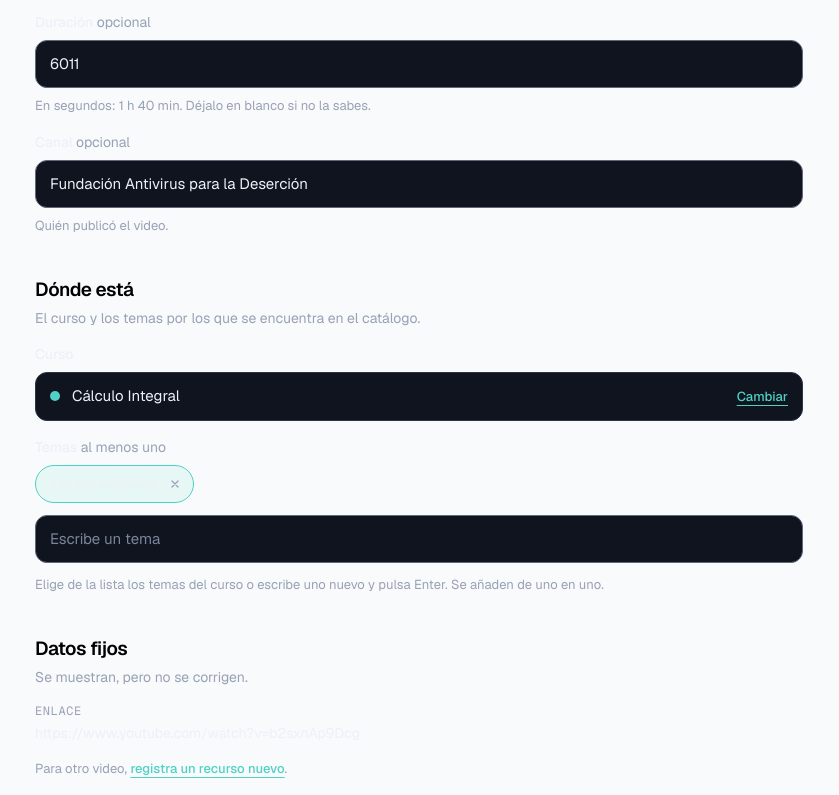
Test: EditResourcePage › cambiar de curso vacía los temas, como al registrar
The width and height of the screenshot is (839, 795).
(page scrolled)
Click the button "Cambiar": [762, 396] box x1=737 y1=387 x2=788 y2=406
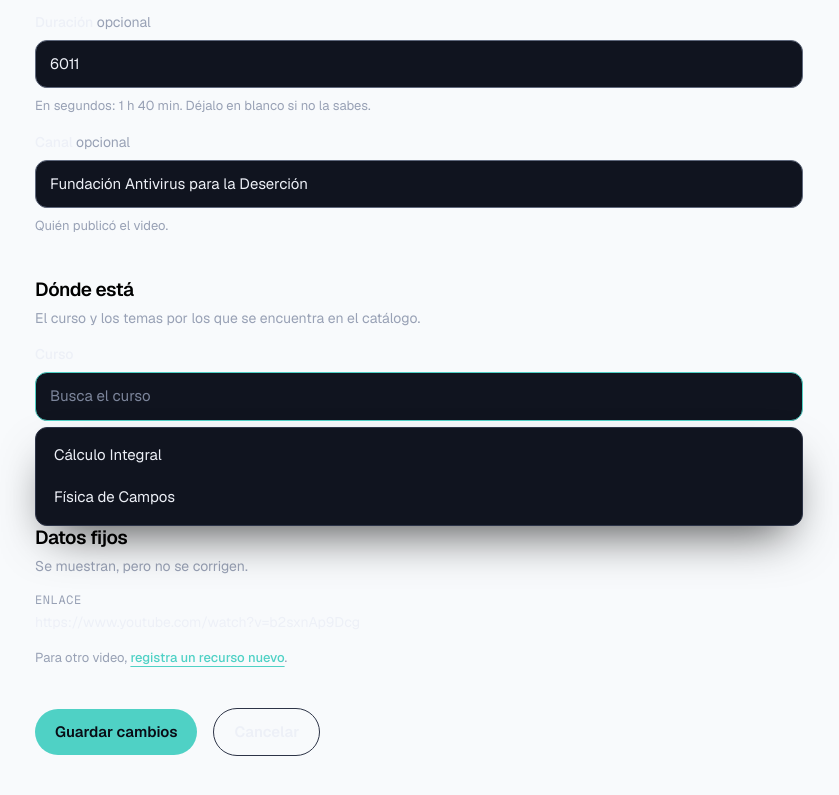
In the dropdown labelled "Curso": [419, 396] box x1=35 y1=372 x2=803 y2=421, type "fisica"
Then press Enter
(page scrolled)
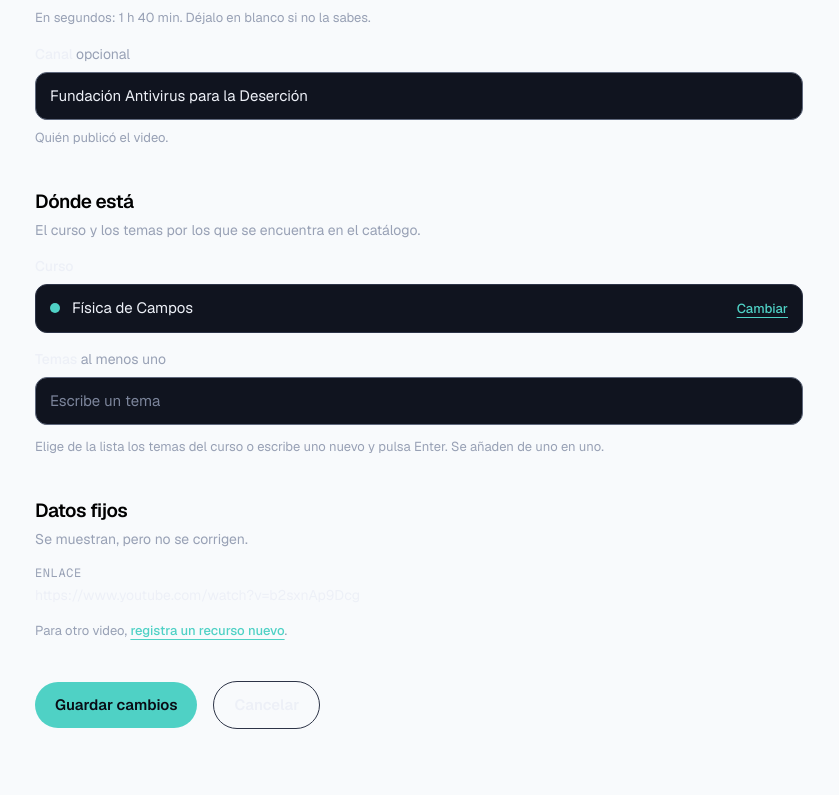
Click the button "Guardar cambios": [116, 705] box x1=35 y1=682 x2=198 y2=728
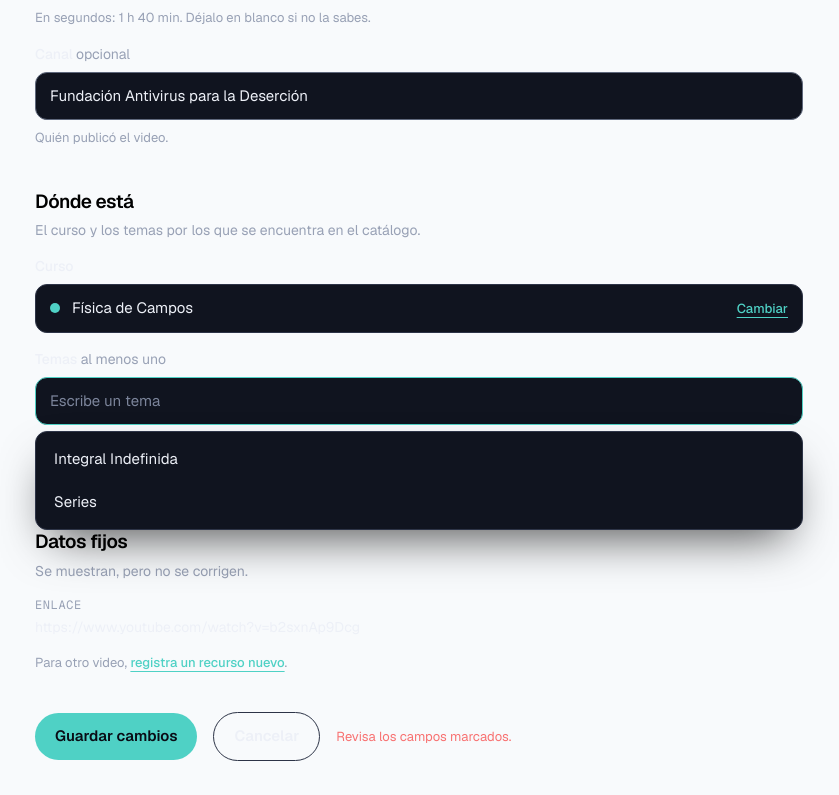
Expected: the text "Elige o escribe al menos un tema." is shown, x1=35 y1=470 x2=233 y2=487
